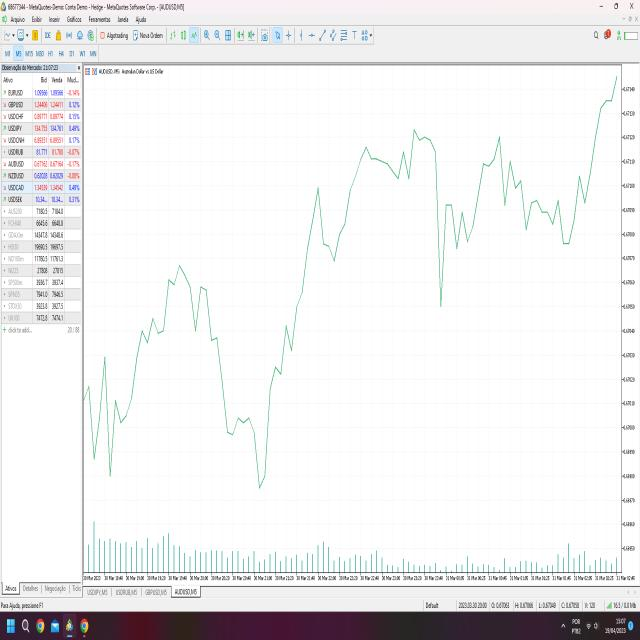oco: (133, 211, 238, 413)
